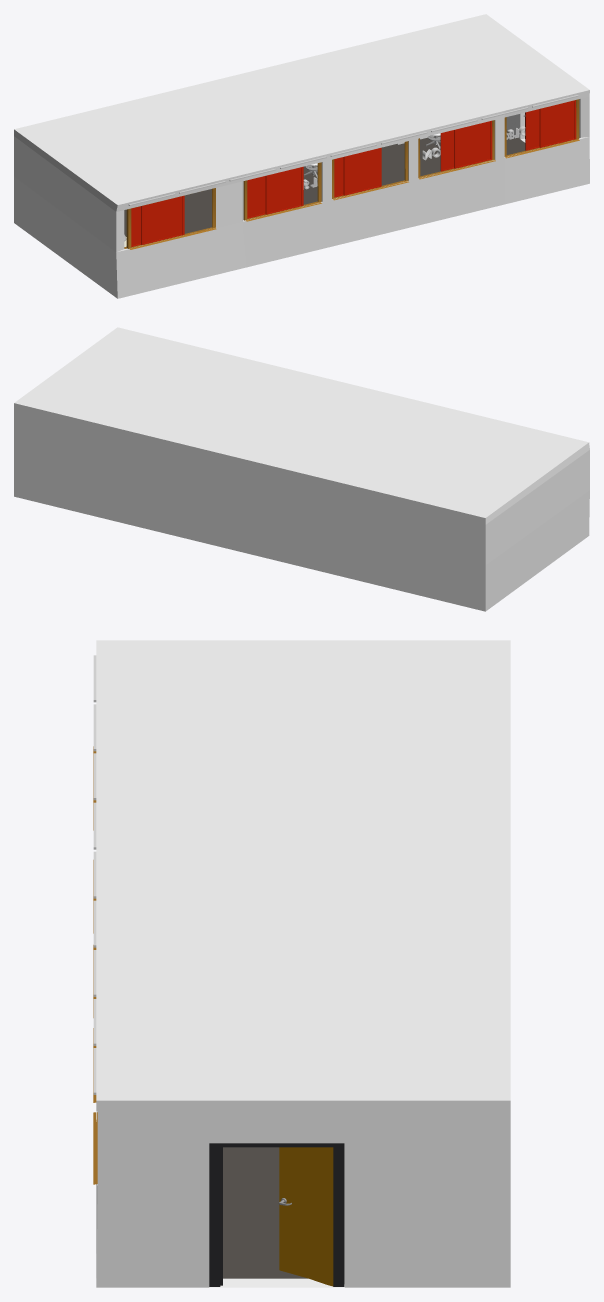
The model's file is laboratory.fbx.
3 renders of one model, top to bottom at view 1: azimuth 30°, elevation 25°; view 2: azimuth 150°, elevation 25°; view 3: azimuth 270°, elevation 25°, orthographic. The views are drawn at different scales.
Parts seen in each view (by area): view 1: Cube.002, Window Panel.009, Window Panel.003, Window Panel.001, Window Panel.005, Window Panel.007, Window Panel.002, Window.004, Window.001, Window Panel.006, Window Panel.004, Window (+4 smaller); view 2: Cube.002; view 3: Cube.002, Door, DoorFrame.
Boxes of the visible parts, x1,y1,x2,y2 form: Cube.002: [14, 14, 589, 298]; Window Panel.009: [141, 195, 184, 244]; Window Panel.003: [265, 166, 303, 214]; Window Panel.001: [343, 147, 381, 195]; Window Panel.005: [454, 120, 492, 168]; Window Panel.007: [539, 100, 576, 147]; Window Panel.002: [247, 176, 265, 218]; Window.004: [124, 188, 216, 249]; Window.001: [243, 162, 321, 221]; Window Panel.006: [525, 109, 539, 150]; Window Panel.004: [440, 130, 454, 171]; Window: [332, 141, 408, 200]; Cube.002: [14, 327, 589, 611]; Cube.002: [96, 640, 510, 1287]; Door: [279, 1147, 333, 1286]; DoorFrame: [209, 1143, 344, 1286].
Size of what is drawn, in the model's own units: 2615 by 494 by 1000.
